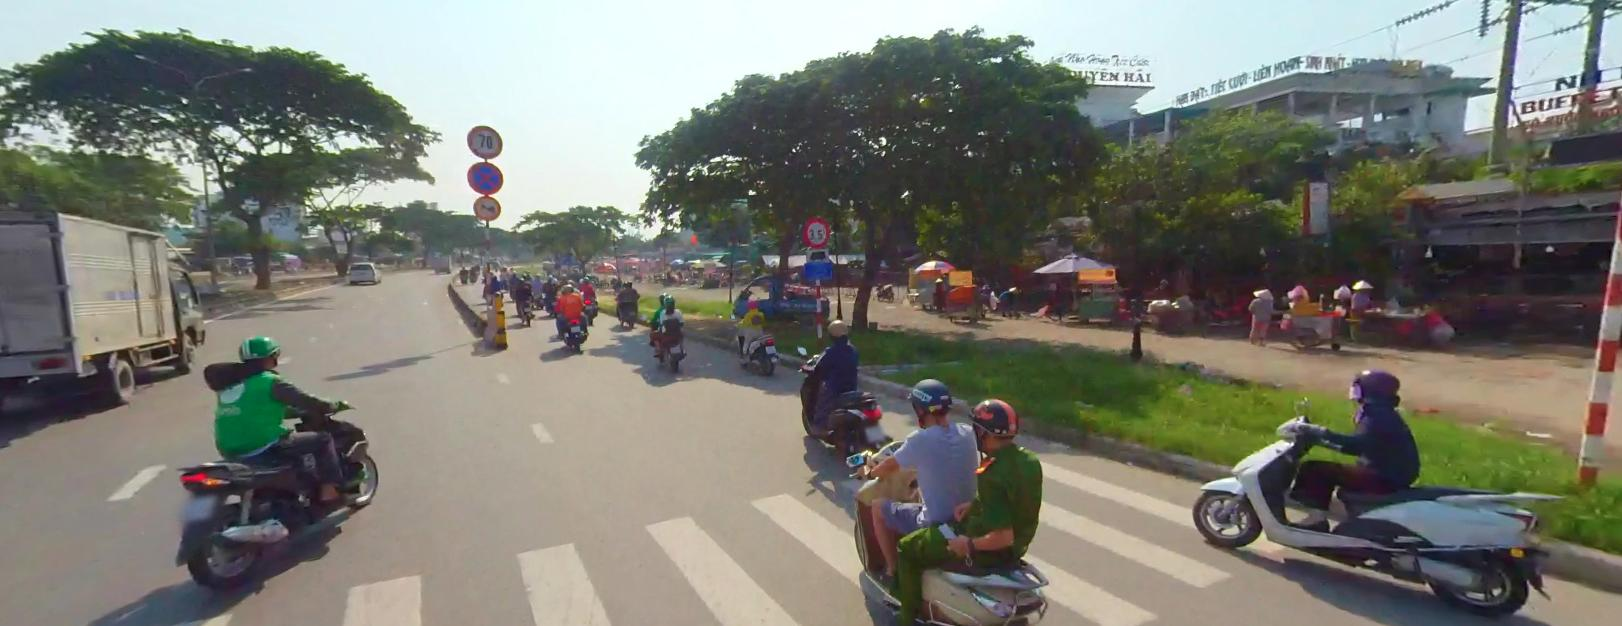Cam con lai: (803, 216, 830, 247), (471, 193, 501, 218)
Cam dung va do: (465, 160, 505, 192)
Gioi han toc do: (465, 122, 503, 158)
